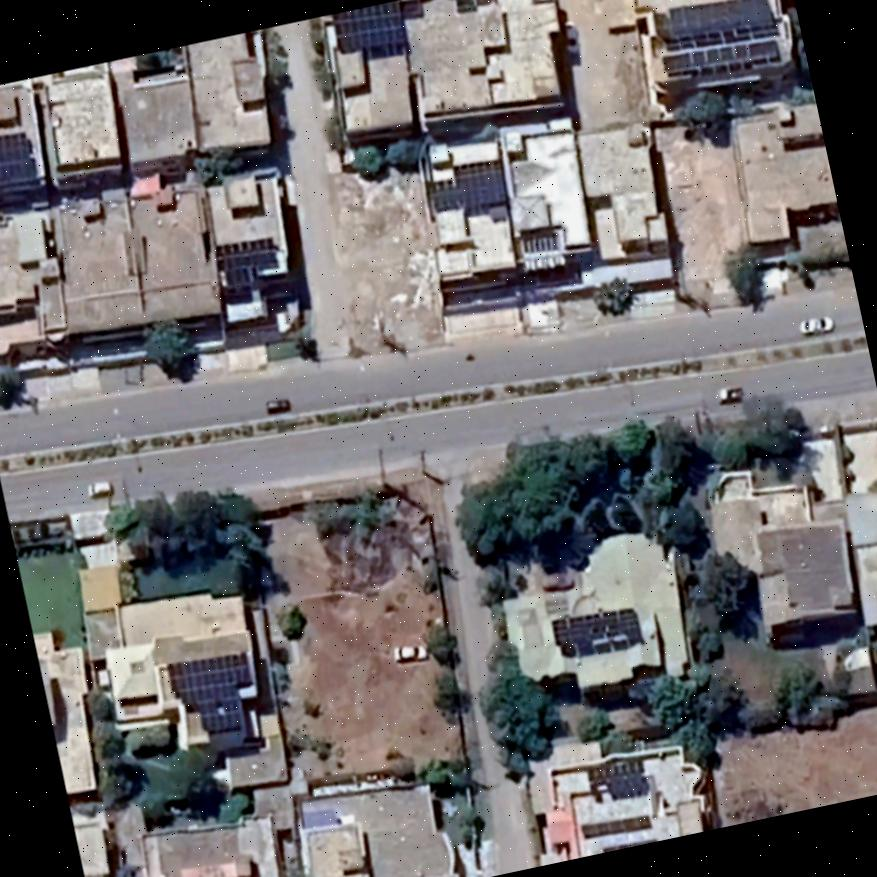Solarpanel: (163, 648, 256, 740), (656, 0, 782, 45), (653, 35, 781, 79), (325, 3, 413, 57), (543, 602, 639, 649), (427, 160, 508, 215), (214, 234, 283, 288), (0, 127, 45, 186), (581, 752, 647, 788), (573, 813, 658, 839)
